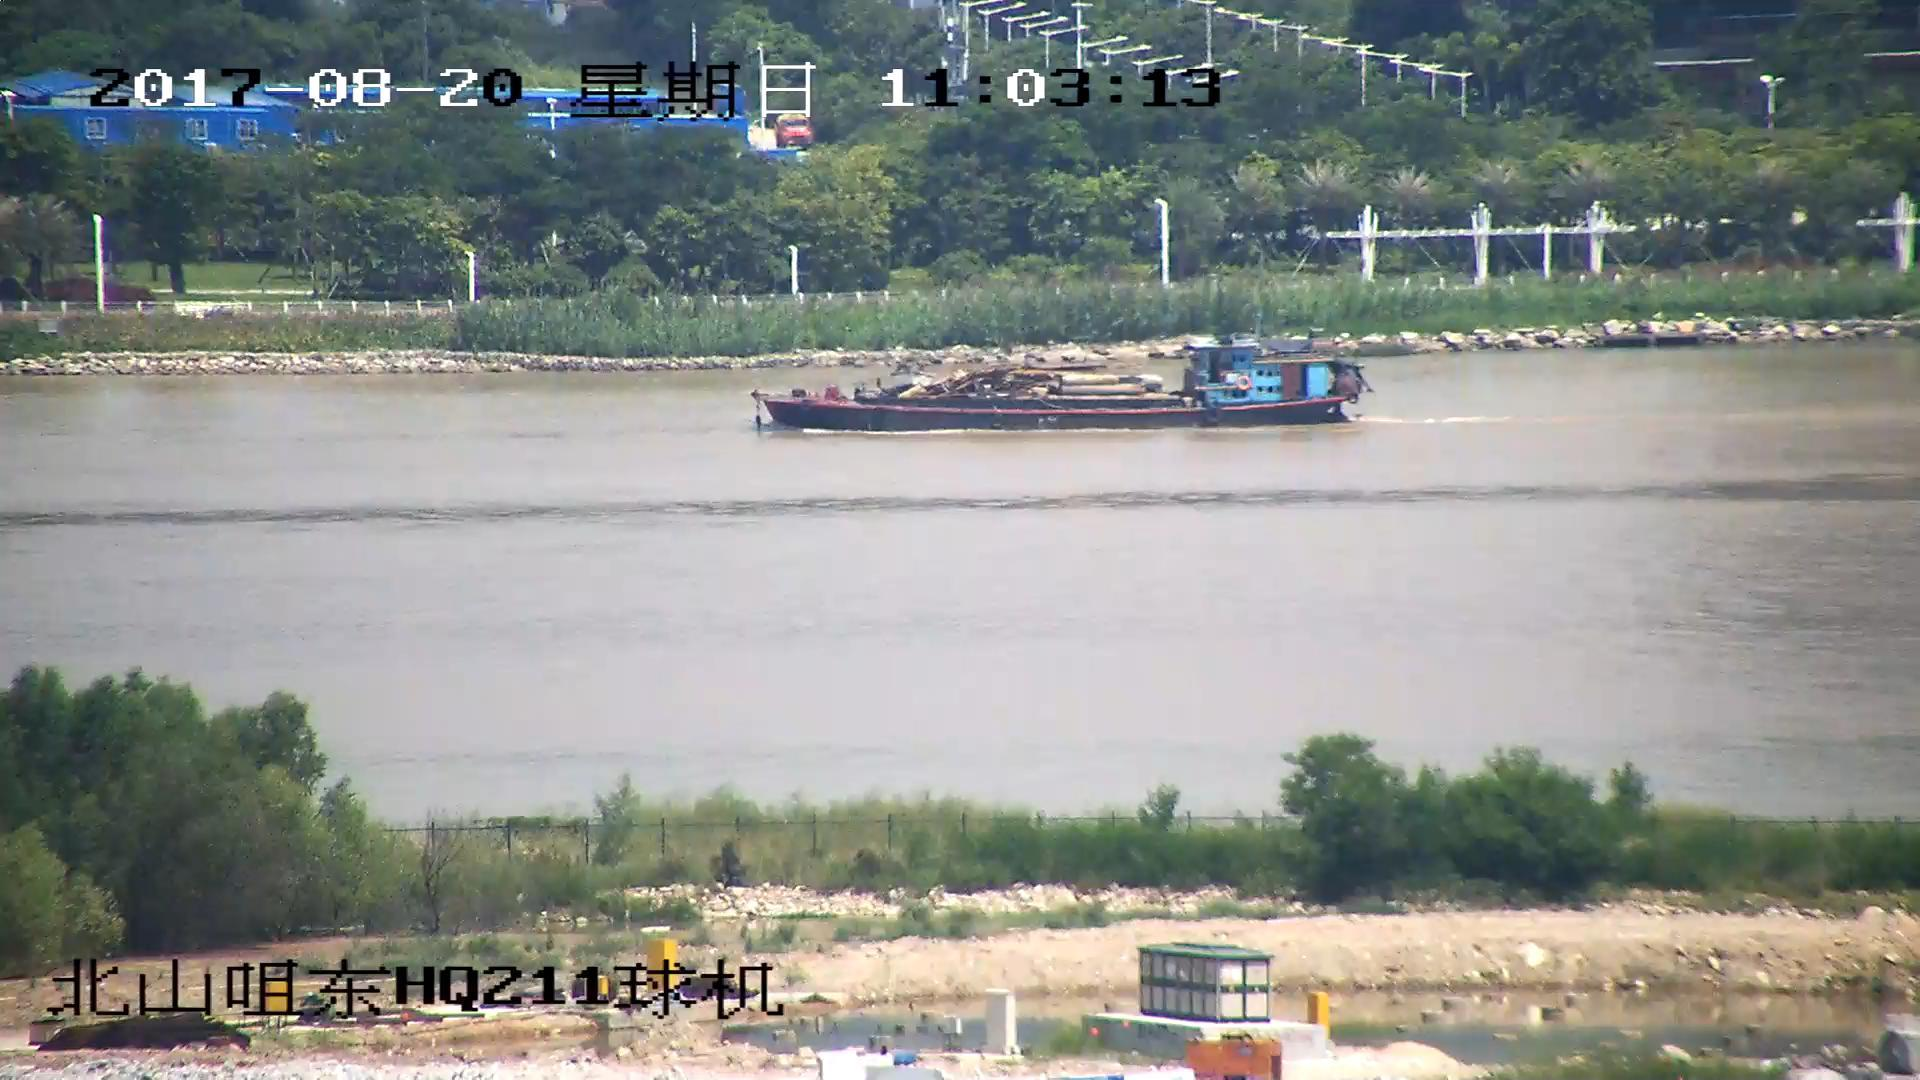Ship: (752, 344, 1373, 435)
